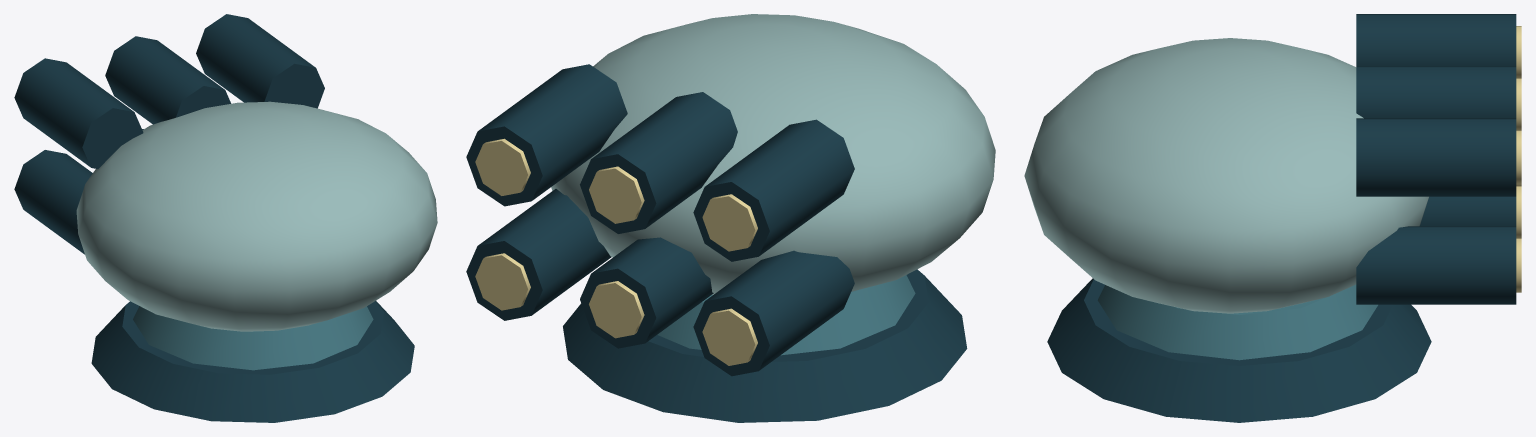
The model's file is pelagic_high_pressure--missile_pod.glb.
3 views of the same model, side by side, from view 1: azimuth 30°, elevation 25°; view 2: azimuth 150°, elevation 25°; view 3: azimuth 270°, elevation 25° (orthographic). The views are drawn at different scales.
Visible parts, largest first — view 1: pressure_module_housing_3, mount_adapter_1, rotation_bearing_2, launch_tube_6, launch_tube_14, launch_tube_10, launch_tube_4; view 2: pressure_module_housing_3, mount_adapter_1, launch_tube_6, launch_tube_14, launch_tube_10, launch_tube_4, launch_tube_12, launch_tube_8, rotation_bearing_2, launcher_cap_7, launcher_cap_11, launcher_cap_13 (+3 smaller); view 3: pressure_module_housing_3, mount_adapter_1, launch_tube_14, rotation_bearing_2, launch_tube_12, launch_tube_6, launch_tube_10, launch_tube_8.
Part boxes in pixels (box(x1,y1,x2,y2)): pressure_module_housing_3: box(76, 101, 437, 331); mount_adapter_1: box(91, 301, 414, 422); rotation_bearing_2: box(133, 306, 373, 370); launch_tube_6: box(14, 58, 143, 168); launch_tube_14: box(196, 14, 324, 108); launch_tube_10: box(105, 36, 230, 124); launch_tube_4: box(14, 150, 92, 254); pressure_module_housing_3: box(551, 14, 995, 294); mount_adapter_1: box(563, 269, 967, 422); launch_tube_6: box(693, 119, 854, 261); launch_tube_14: box(466, 64, 627, 206); launch_tube_10: box(580, 92, 737, 233); launch_tube_4: box(693, 250, 854, 376); launch_tube_12: box(466, 189, 611, 320); launch_tube_8: box(580, 237, 713, 348); rotation_bearing_2: box(657, 275, 915, 355); launcher_cap_7: box(702, 194, 757, 251); launcher_cap_11: box(589, 166, 644, 223); launcher_cap_13: box(475, 253, 530, 310); pressure_module_housing_3: box(1024, 38, 1428, 313); mount_adapter_1: box(1047, 278, 1431, 422); launch_tube_14: box(1356, 118, 1516, 196); rotation_bearing_2: box(1097, 284, 1377, 360); launch_tube_12: box(1356, 226, 1516, 304); launch_tube_6: box(1356, 14, 1516, 66); launch_tube_10: box(1356, 66, 1516, 118); launch_tube_8: box(1420, 196, 1516, 226).
Size of the model in its own units: 22.8 by 15.86 by 26.08.
